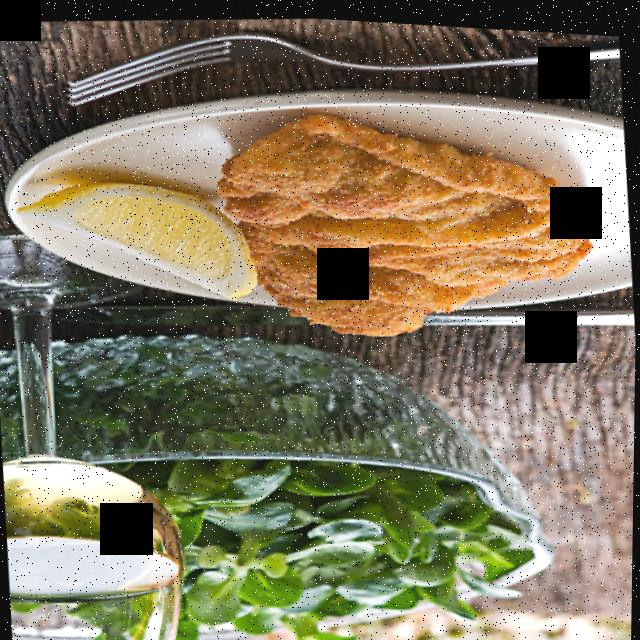Frango: (203, 87, 604, 357)
